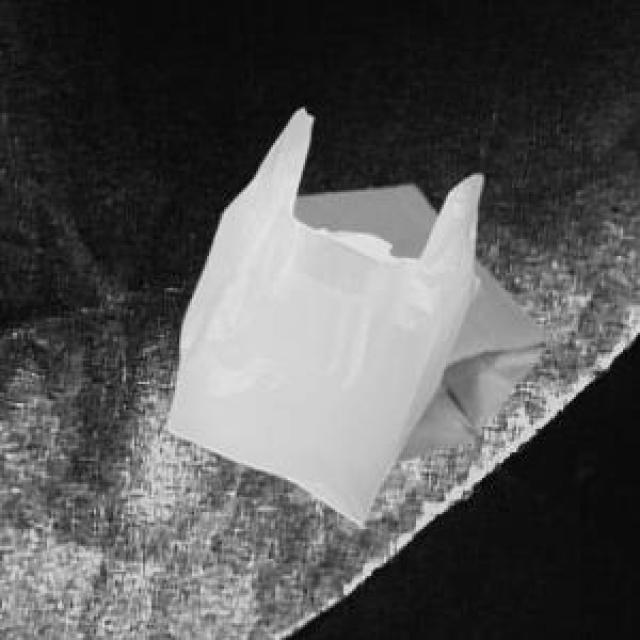paper: (288, 181, 546, 459)
